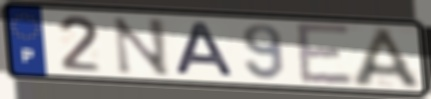2: (56, 14, 103, 74)
9: (241, 22, 285, 81)
A: (350, 25, 427, 91), (173, 20, 238, 79)
E: (293, 20, 357, 87)
N: (110, 15, 173, 78)
